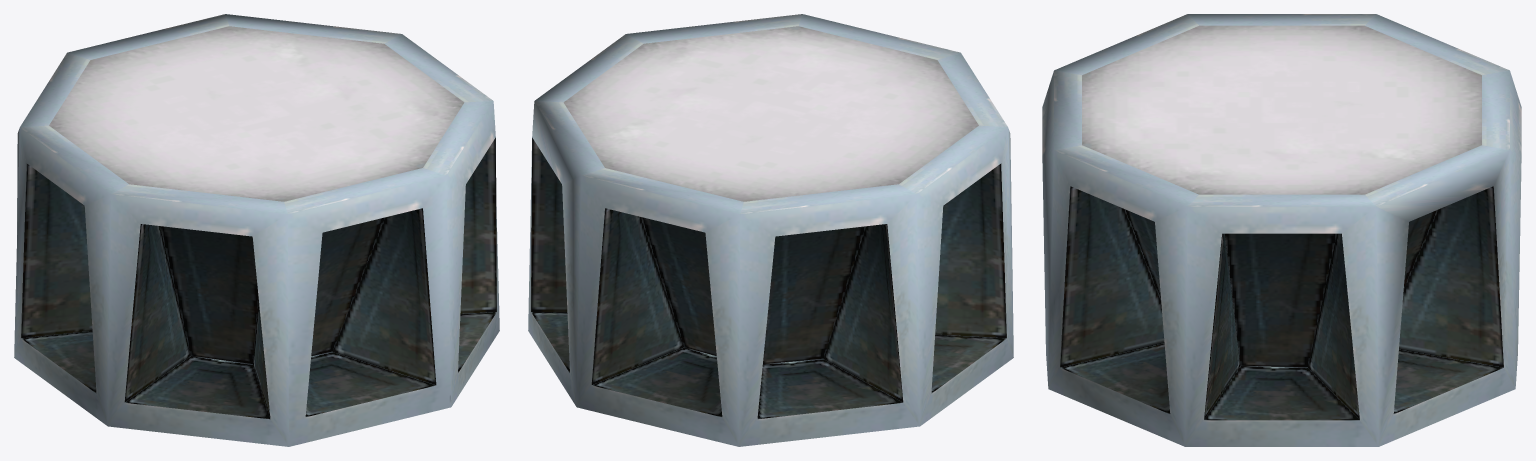
Rendered from thm_frn_table_s02_l2.fbx.
3 views of the same model, side by side, from view 1: azimuth 30°, elevation 25°; view 2: azimuth 150°, elevation 25°; view 3: azimuth 270°, elevation 25° (orthographic). The views are drawn at different scales.
Visible parts, largest first — view 1: mesh_node; view 2: mesh_node; view 3: mesh_node.
Part boxes in pixels (left/top/right/bottom): mesh_node: left=14, top=14, right=499, bottom=446; mesh_node: left=528, top=14, right=1013, bottom=446; mesh_node: left=1042, top=14, right=1521, bottom=446.
Bounding box in the file's own units: 1.37 × 0.7502 × 1.37.
1 material, 1 textured.
